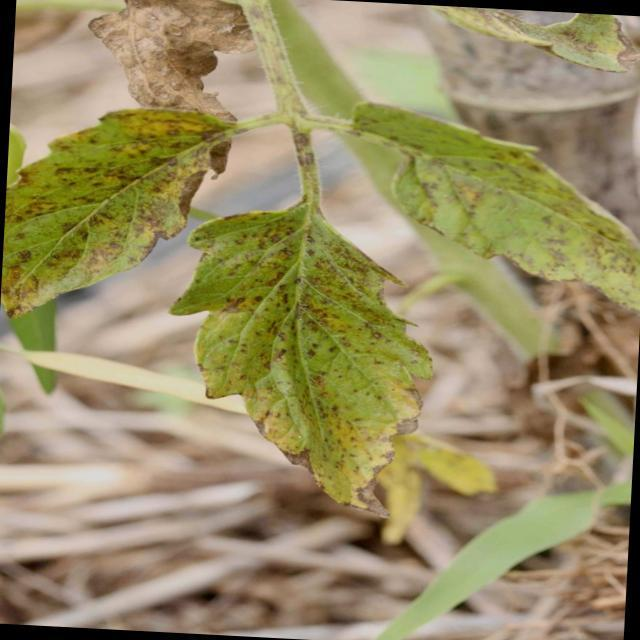Bacterial Spot: (188, 191, 406, 516), (343, 93, 640, 294), (1, 100, 216, 322)
